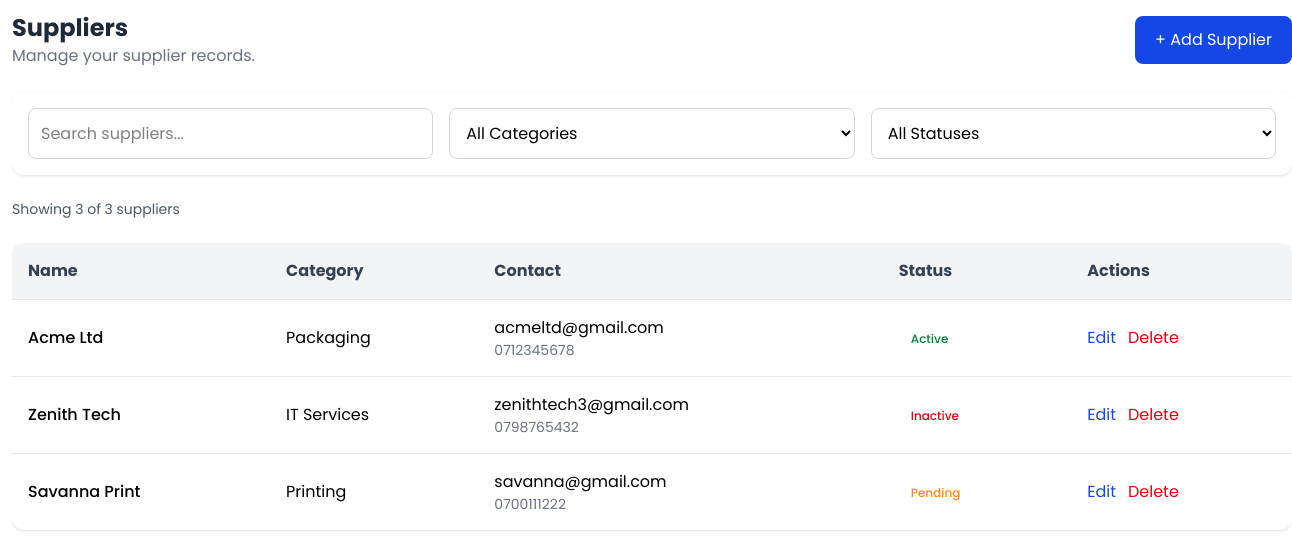
Scenario: Suppliers Page › filters suppliers by category
Select "Packaging" in the dropdown named "filter by category" at (652, 134), box [449,108,855,159]
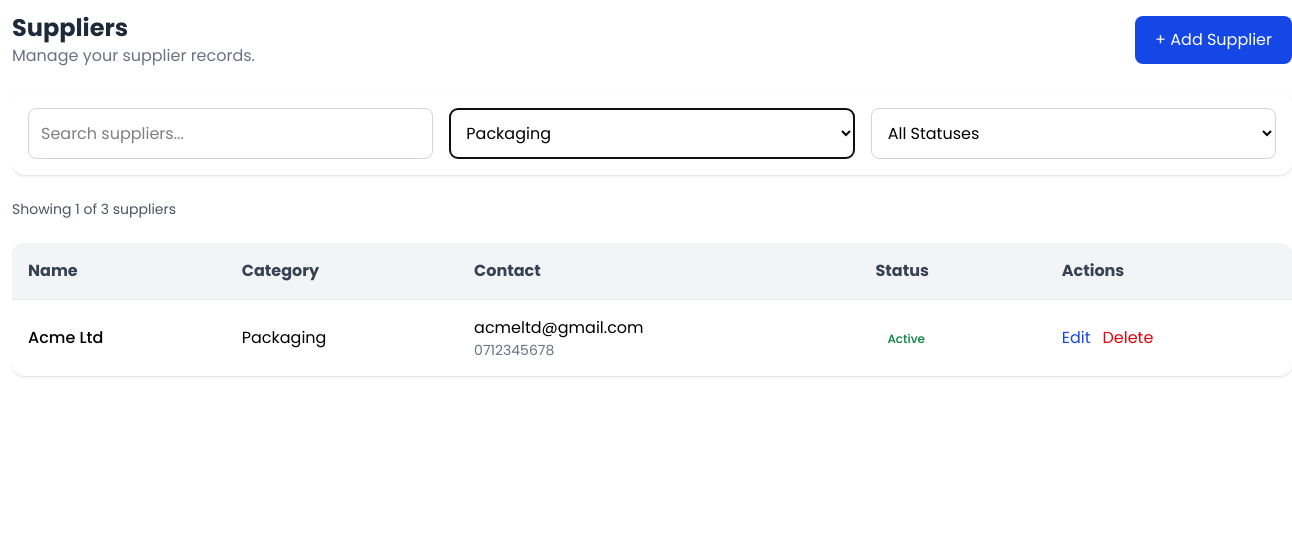
Expected: the text "Acme Ltd" is shown, [12,300,226,376]
Result: the text "Zenith Tech" is gone
Result: the text "Savanna Print" is gone
